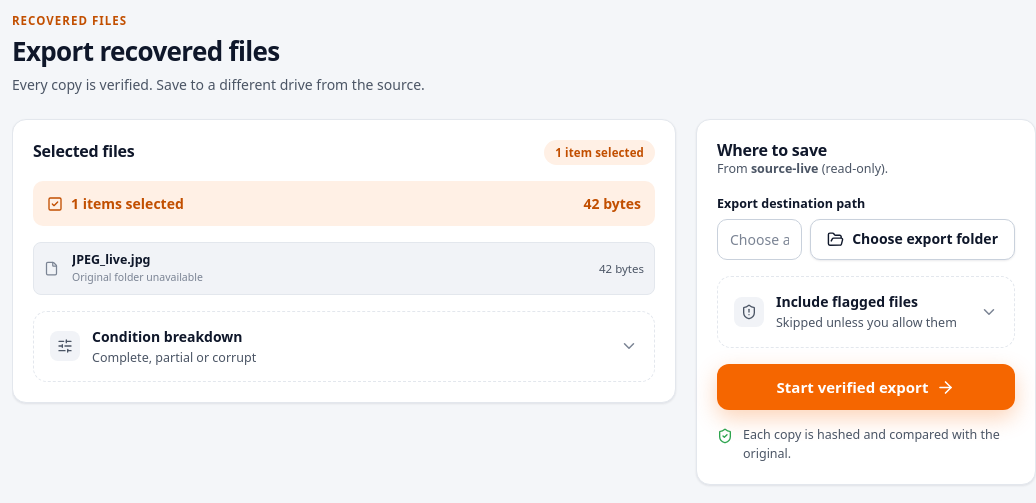
live renderer pages › fills the export destination from the native folder picker
Click the button "Choose export folder": [913, 240] box top-left (810, 219), bottom-right (1015, 260)
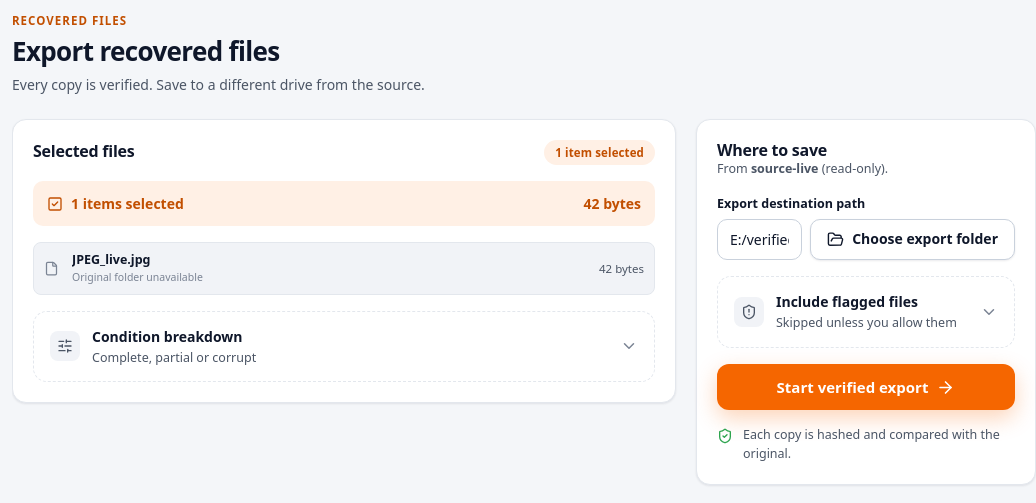
Now the field labelled "Export destination path Choose export folder" holds "E:/verified-export", box top-left (717, 219), bottom-right (802, 260)
